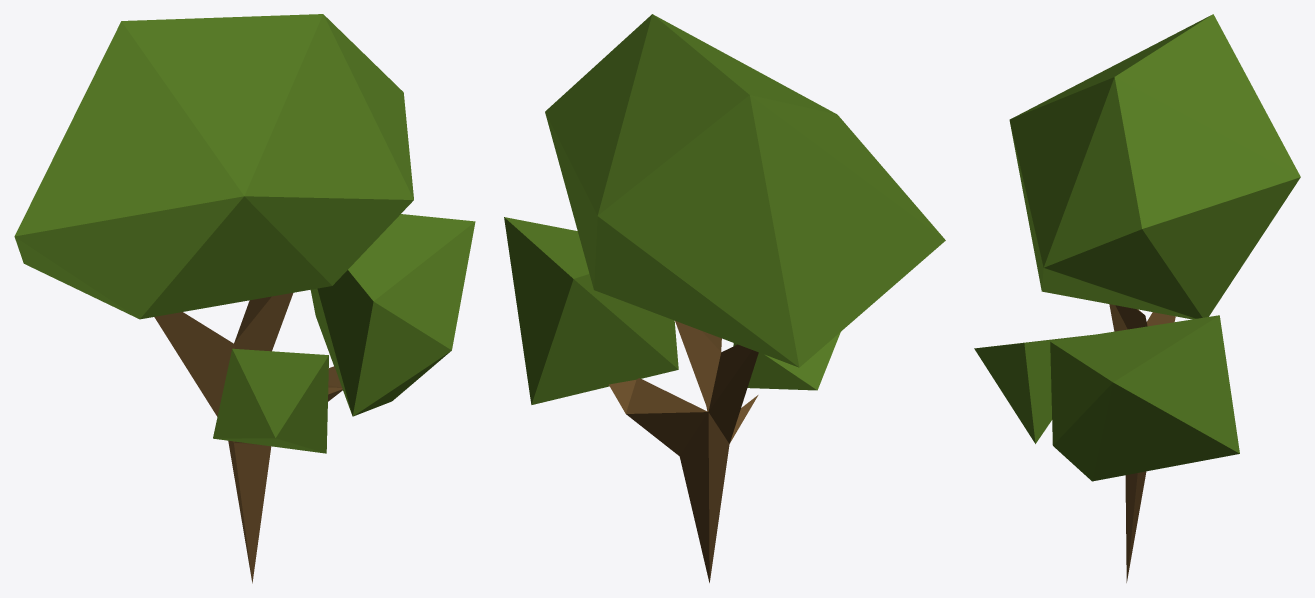
Rendered from temp-decid.tall-op0.1.gltf.
3 views of the same model, side by side, from view 1: azimuth 30°, elevation 25°; view 2: azimuth 150°, elevation 25°; view 3: azimuth 270°, elevation 25° (orthographic). The views are drawn at different scales.
Parts seen in each view (by area): view 1: Tree1_1; view 2: Tree1_1; view 3: Tree1_1.
Part boxes in pixels (left/top/right/bottom): Tree1_1: left=14, top=14, right=475, bottom=583; Tree1_1: left=504, top=14, right=945, bottom=582; Tree1_1: left=974, top=14, right=1300, bottom=582.
Size of the model in its own units: 6.15 by 7.21 by 3.98.
1 material, 1 textured.
